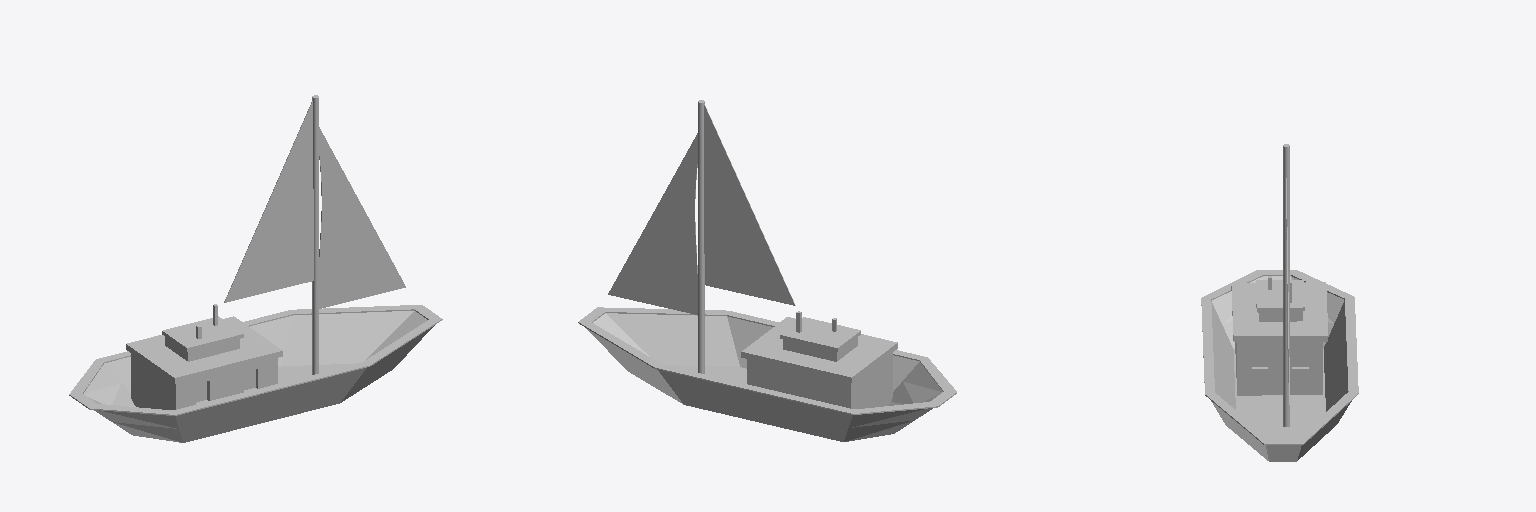
Rendered from boat2.obj.
3 renders of one model, left to right at view 1: azimuth 30°, elevation 25°; view 2: azimuth 150°, elevation 25°; view 3: azimuth 270°, elevation 25°, orthographic.
Parts seen in each view (by area): view 1: boat; view 2: boat; view 3: boat.
Boxes of the visible parts, box(x1,y1,x2,y2) form: boat: box(69, 95, 442, 442); boat: box(578, 100, 956, 441); boat: box(1201, 144, 1358, 461).
Size of the model in its own units: 8.13 by 6.15 by 3.11.